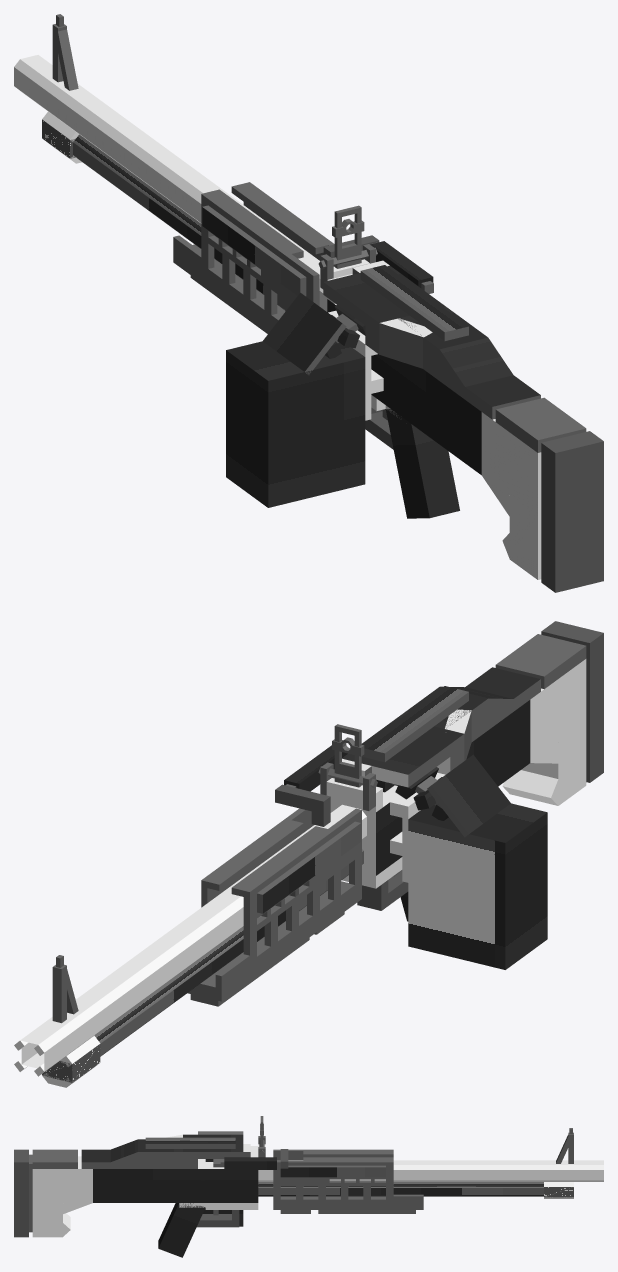
Rendered from mteg_m60.glb.
The picture shows the model from 3 angles, top to bottom: view 1: azimuth 30°, elevation 25°; view 2: azimuth 150°, elevation 25°; view 3: azimuth 270°, elevation 25°; orthographic projection. The views are drawn at different scales.
Visible parts, largest first — view 1: Gun; view 2: Gun; view 3: Gun.
Part boxes in pixels (box(x1,y1,x2,y2)): Gun: box(14, 14, 603, 592); Gun: box(14, 621, 603, 1087); Gun: box(14, 1116, 603, 1257).
Size of the model in its own units: 0.4883 by 0.6177 by 2.45.
1 material, 1 textured.
